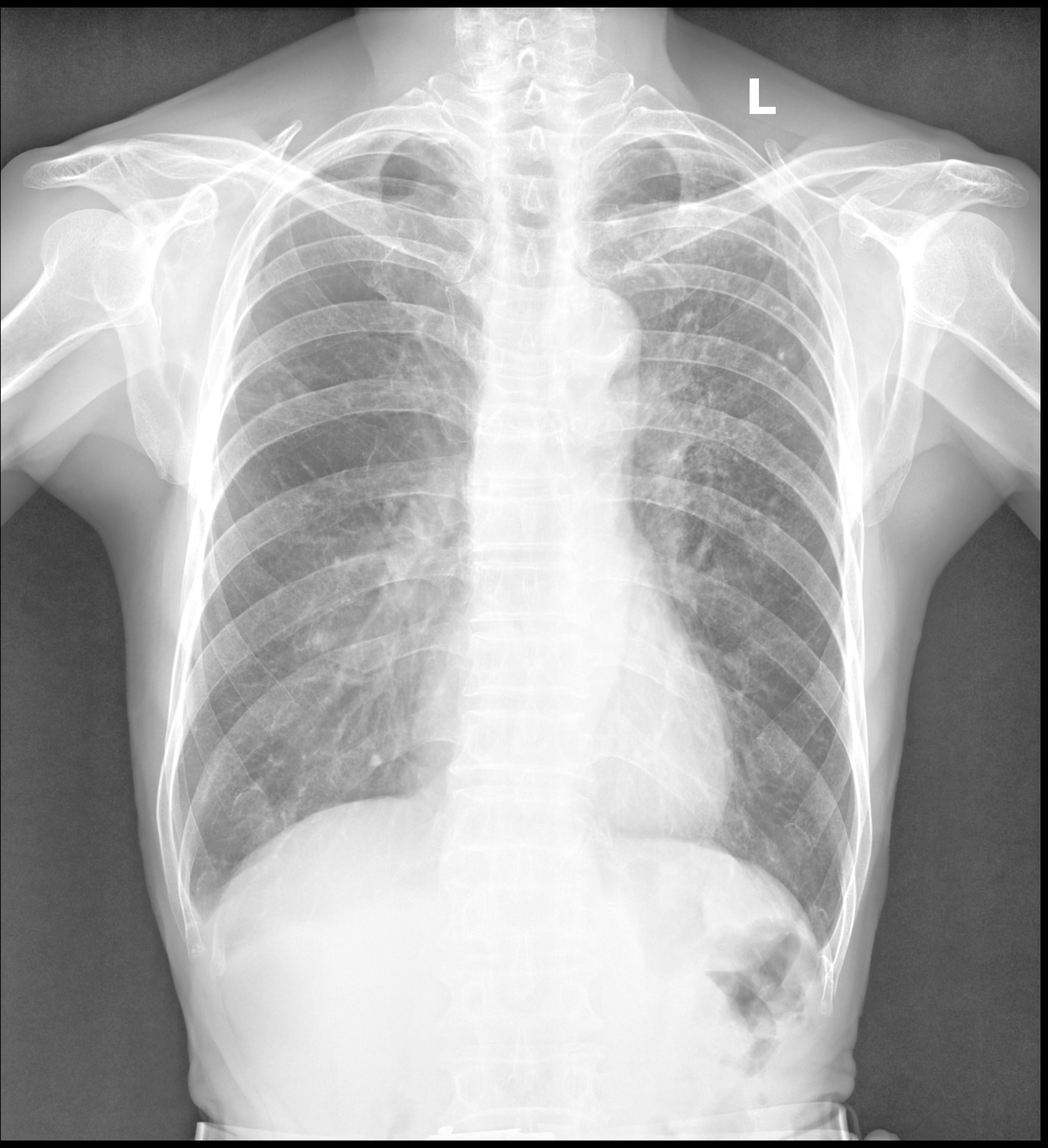Pleural thickening: (322, 123, 448, 161), (175, 859, 218, 955), (814, 928, 841, 1000), (610, 130, 670, 159)
Pulmonary fibrosis: (234, 375, 458, 491)
